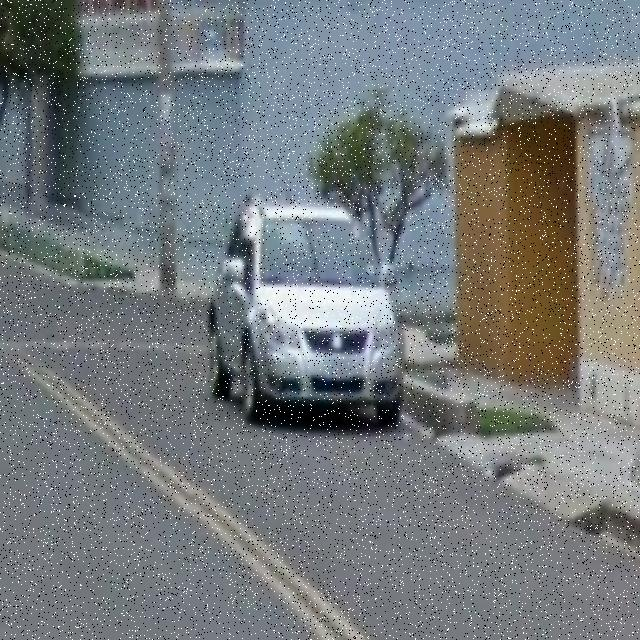cars: (209, 201, 408, 446)
